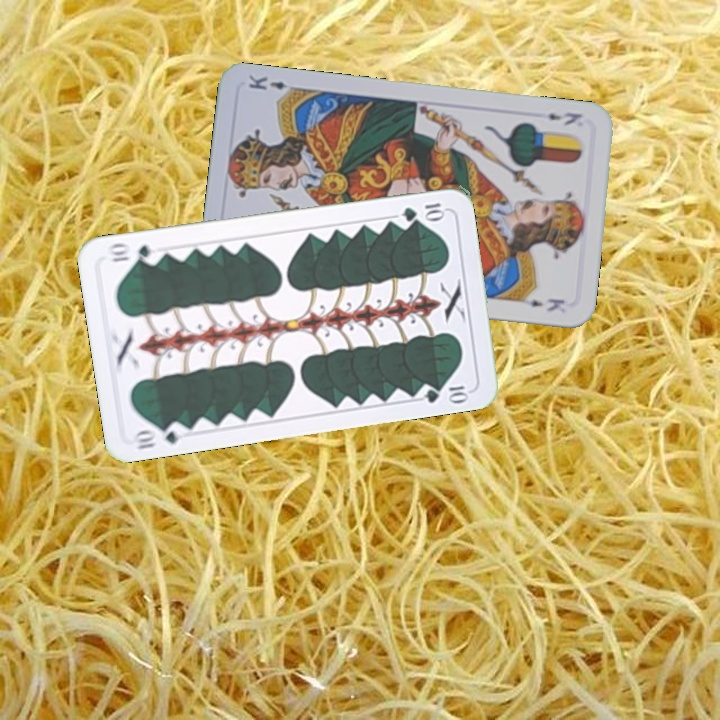EK: (543, 108, 585, 128)
G10: (128, 419, 189, 452), (398, 199, 448, 224)
